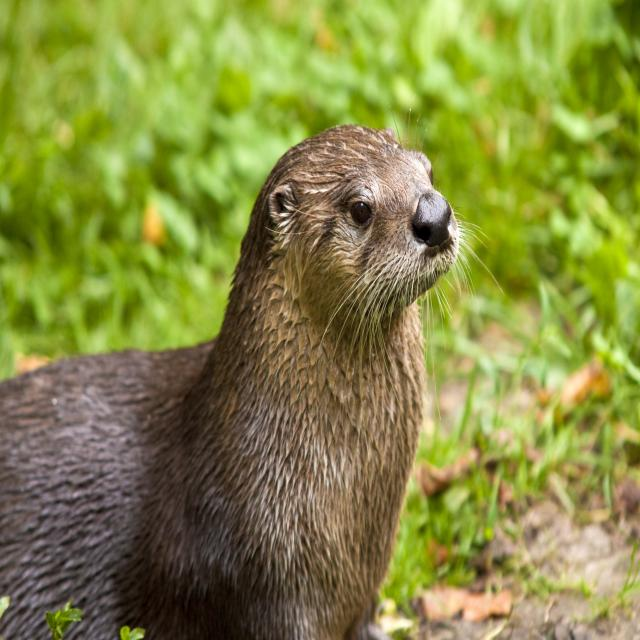otter: (143, 127, 461, 639)
